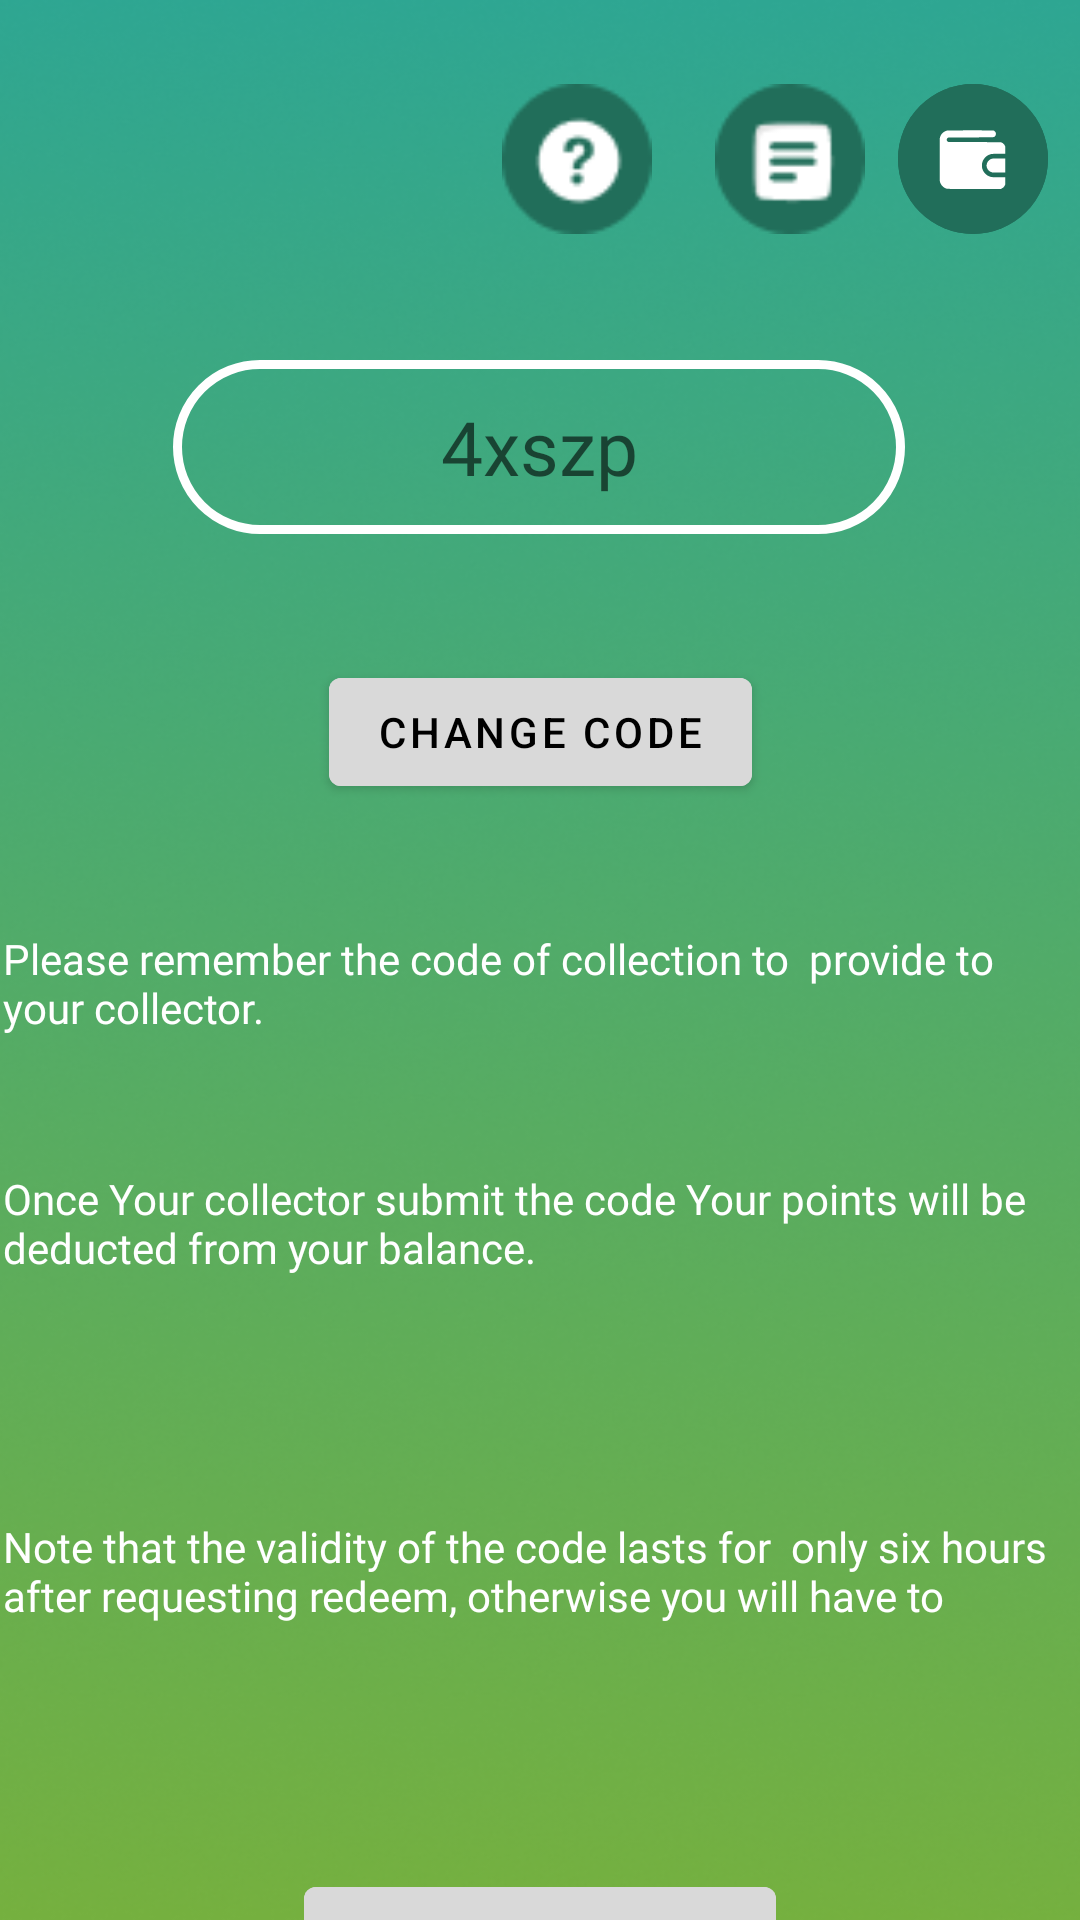

Screen size 1080x1920. Icon name, then its box in pixels as (x1, y1, x2, y2):
helpicon: (502, 84, 652, 234)
orderhistoryicon: (715, 84, 865, 234)
wallet: (898, 84, 1048, 234)
